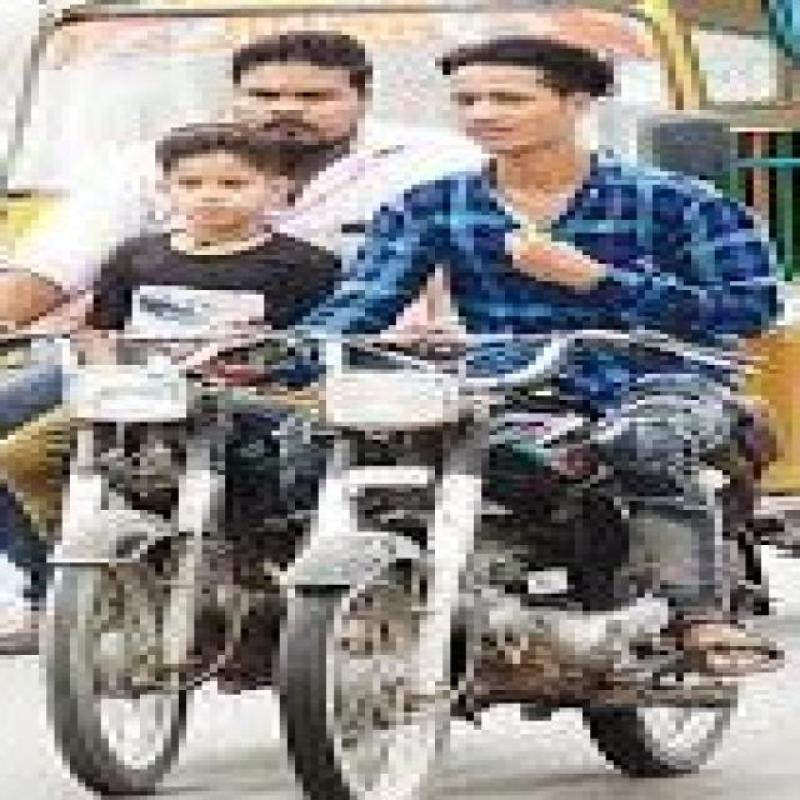nohelmet: (428, 25, 624, 173), (228, 32, 374, 154)
